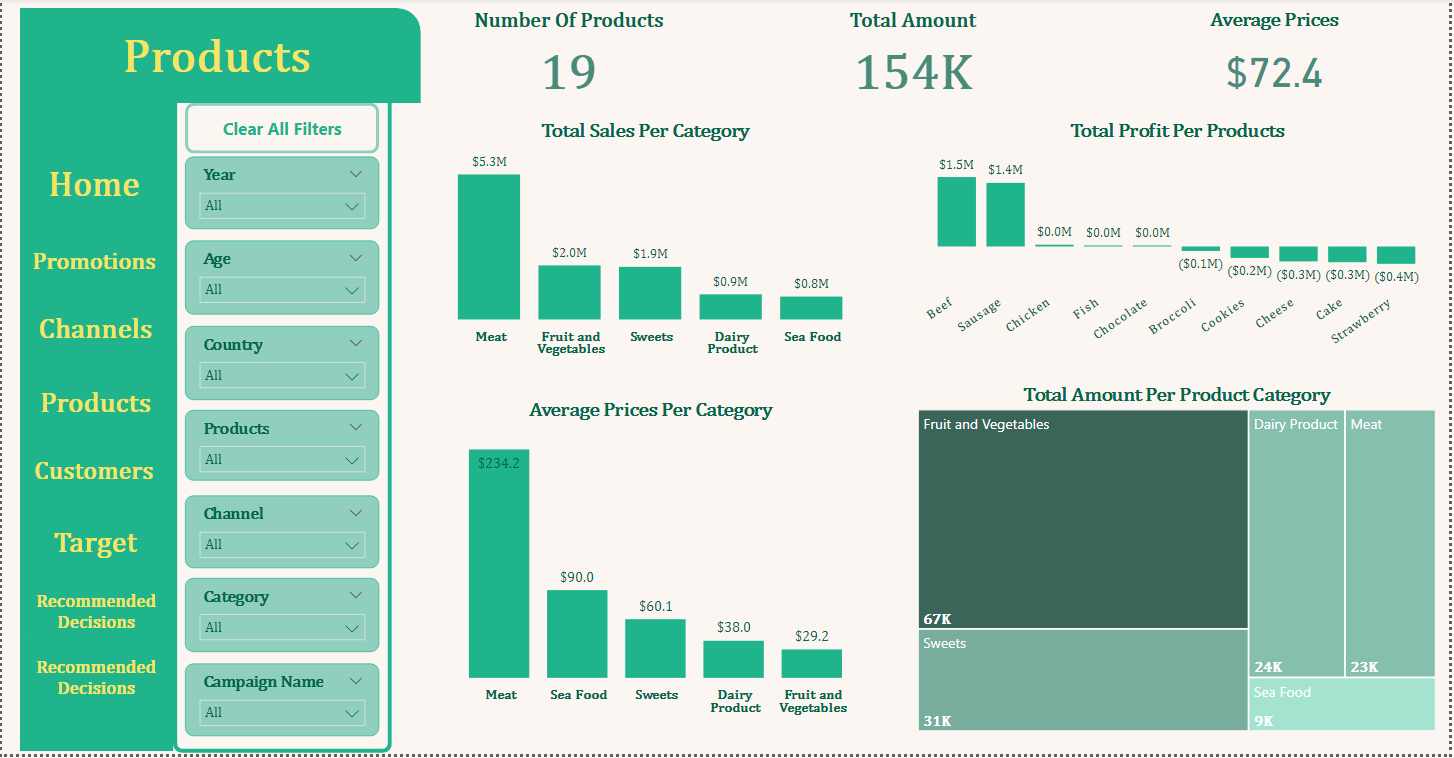

Layout of this report page (visuals, bound fields, positions):
{"tool":"powerbi","page":{"name":"Products","canvas":[1380,720],"ordinal":2},"visuals":[{"type":"treemap","title":"Total Amount Per Product Category","fields":{"Group":["Products.Category","Products.Sub_Category","Products.Products"],"Values":["DAX_Measures.Total Of Amount"]},"box":[869.5,367.3,503.8,335.3],"z":0},{"type":"card","title":"Average Prices","fields":{"Values":["DAX_Measures.AVG Of Products Prices"]},"box":[1087.3,10,251.7,91.7],"z":1000},{"type":"card","title":"Number Of Products","fields":{"Values":["DAX_Measures.Number Of Products"]},"box":[424.6,10.1,230.8,91],"z":2000},{"type":"columnChart","title":"Total Profit Per Products","fields":{"Category":["Products.Products"],"Y":["DAX_Measures.Profit"]},"box":[869.5,116.3,503.8,232.5],"z":3000},{"type":"columnChart","title":"Total Sales Per Category","fields":{"Y":["DAX_Measures.Total Sales"],"Category":["Products.Category"]},"box":[387.5,116.3,451.6,232.5],"z":4000},{"type":"card","title":"Total Amount","fields":{"Values":["DAX_Measures.Total Of Amount"]},"box":[744.8,10.1,249.4,91],"z":5000},{"type":"shape","box":[163.4,85.9,208.9,633.6],"z":6000},{"type":"slicer","fields":{"Values":["Dimdate.date.Variation.Date Hierarchy.Year"]},"box":[175.2,150,185.3,69.1],"z":7000},{"type":"slicer","fields":{"Values":["Customer.Age"]},"box":[175.2,230.8,185.3,70.8],"z":8000},{"type":"slicer","fields":{"Values":["Customer.country"]},"box":[175.2,311.7,185.3,70.8],"z":9000},{"type":"slicer","fields":{"Values":["Products.Products"]},"box":[175.2,392.6,185.3,67.4],"z":10000},{"type":"slicer","fields":{"Values":["place.name"]},"box":[175.2,473.5,185.3,69.1],"z":11000},{"type":"slicer","fields":{"Values":["Products.Category"]},"box":[175.2,552.7,185.3,70.8],"z":12000},{"type":"slicer","fields":{"Values":["promotion.name"]},"box":[175.2,633.6,185.3,69.1],"z":13000},{"type":"actionButton","box":[175.2,99.4,185.3,48.9],"z":14000},{"type":"shape","box":[16.8,85.9,146.6,631.9],"z":15000},{"type":"shape","box":[16.8,8.4,382.5,91],"z":16000},{"type":"actionButton","box":[24.7,152.4,126.4,55.6],"z":17000},{"type":"actionButton","box":[24.7,223.2,126.4,55.6],"z":18000},{"type":"actionButton","box":[26.4,288.9,126.4,55.6],"z":19000},{"type":"actionButton","box":[26.4,359.7,126.4,55.6],"z":20000},{"type":"actionButton","box":[24.7,423.7,126.4,55.6],"z":21000},{"type":"actionButton","box":[26.4,492.8,126.4,55.6],"z":22000},{"type":"actionButton","box":[23.9,548.1,130.5,75],"z":23000},{"type":"columnChart","title":"Average Prices Per Category","fields":{"Y":["DAX_Measures.AVG Of Products Prices"],"Category":["Products.Category"]},"box":[399.6,381.7,438.8,308.3],"z":24000},{"type":"actionButton","box":[23.6,611,130.3,75.2],"z":25000}]}

Visuals, with their boxes in screenshot pixels (x1, y1, x2, y2), scaled from the page's 1380x720 canvas onto the 1454x758 screenshot:
"Total Amount Per Product Category" treemap: <bbox>916, 387, 1447, 740</bbox>
"Average Prices" card: <bbox>1146, 11, 1411, 107</bbox>
"Number Of Products" card: <bbox>447, 11, 691, 106</bbox>
"Total Profit Per Products" columnChart: <bbox>916, 122, 1447, 367</bbox>
"Total Sales Per Category" columnChart: <bbox>408, 122, 884, 367</bbox>
"Total Amount" card: <bbox>785, 11, 1048, 106</bbox>
shape: <bbox>172, 90, 392, 757</bbox>
slicer - Dimdate.date.Variation.Date Hierarchy.Year: <bbox>185, 158, 380, 231</bbox>
slicer - Customer.Age: <bbox>185, 243, 380, 318</bbox>
slicer - Customer.country: <bbox>185, 328, 380, 403</bbox>
slicer - Products.Products: <bbox>185, 413, 380, 484</bbox>
slicer - place.name: <bbox>185, 498, 380, 571</bbox>
slicer - Products.Category: <bbox>185, 582, 380, 656</bbox>
slicer - promotion.name: <bbox>185, 667, 380, 740</bbox>
actionButton: <bbox>185, 105, 380, 156</bbox>
shape: <bbox>18, 90, 172, 756</bbox>
shape: <bbox>18, 9, 421, 105</bbox>
actionButton: <bbox>26, 160, 159, 219</bbox>
actionButton: <bbox>26, 235, 159, 294</bbox>
actionButton: <bbox>28, 304, 161, 363</bbox>
actionButton: <bbox>28, 379, 161, 437</bbox>
actionButton: <bbox>26, 446, 159, 505</bbox>
actionButton: <bbox>28, 519, 161, 577</bbox>
actionButton: <bbox>25, 577, 163, 656</bbox>
"Average Prices Per Category" columnChart: <bbox>421, 402, 883, 726</bbox>
actionButton: <bbox>25, 643, 162, 722</bbox>
